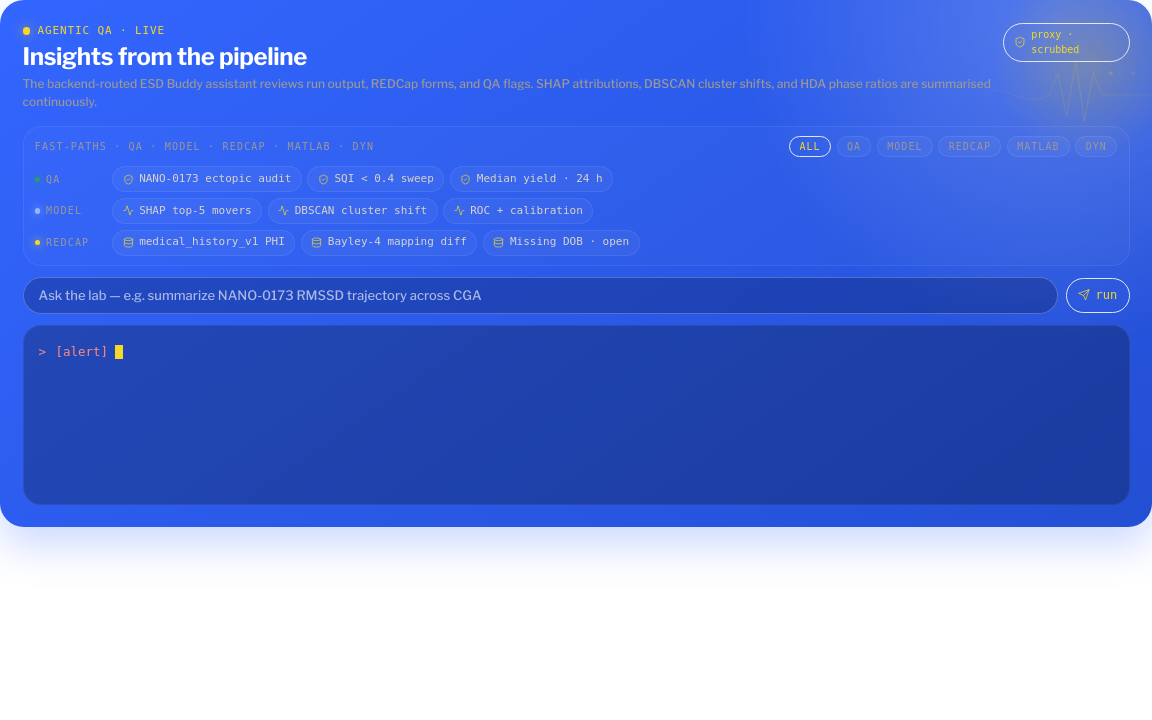
AgenticQAPanel › falls back to the de-identified insight backlog without exposing status errors
Replace the text in the field named "agentic qa prompt" with "Summarize the latest QA flags": (540, 295) [22,277,1058,314]
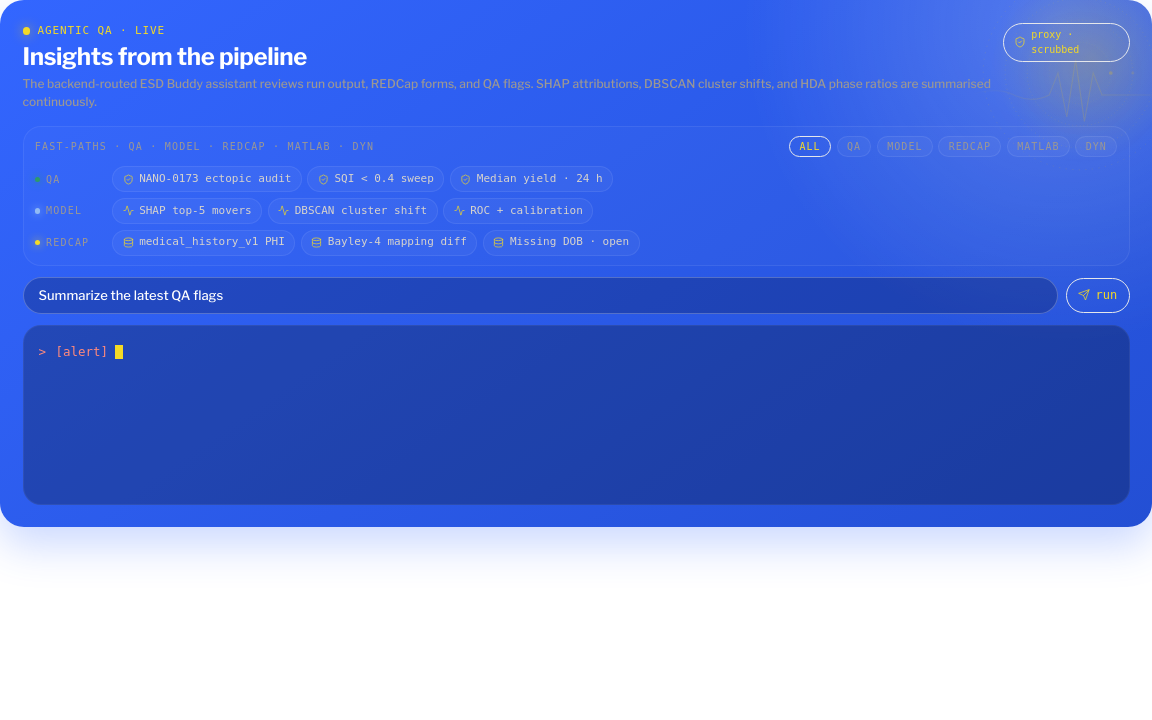
Click the button "run": (1098, 295) [1066,278,1130,313]
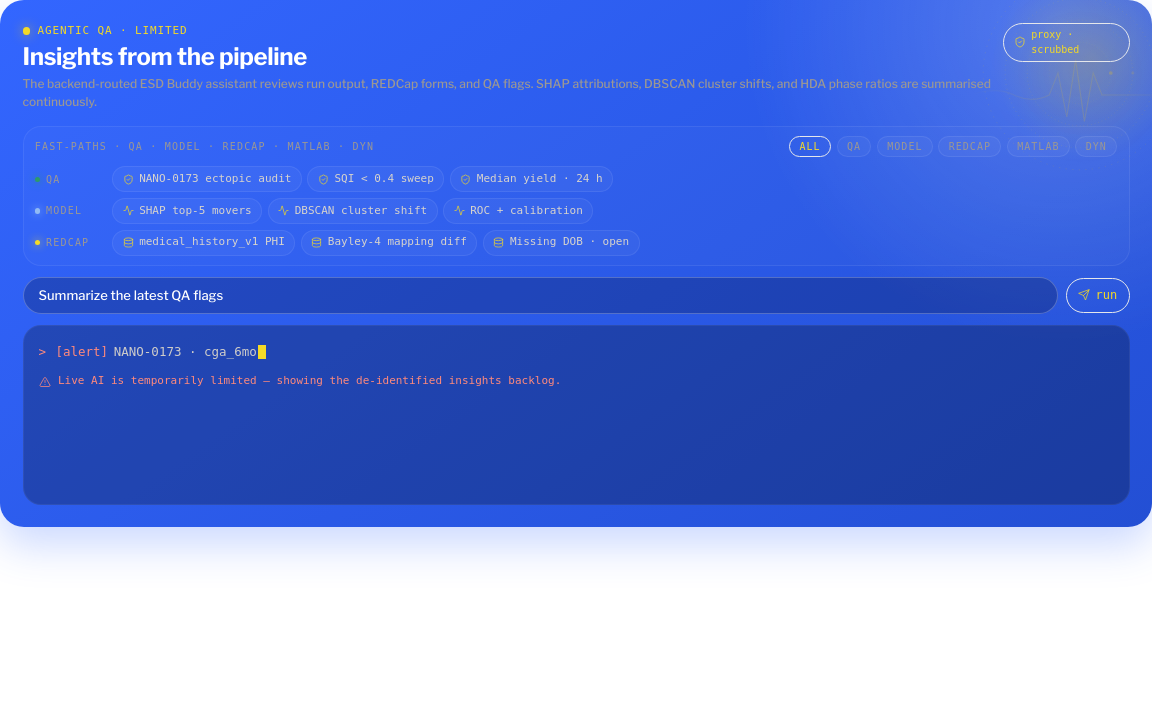
Expected: the text "Live AI is temporarily limited" is shown, [58,374,561,387]
